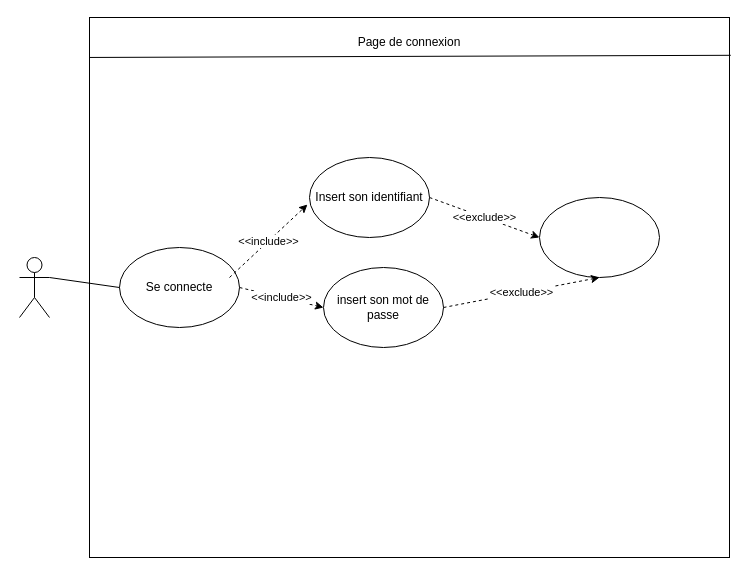
Image size: 750x575. Some labels were removed from this diagram. The shapes that lost their labels are listed below. From the top down, each one's centre as x and y in pixels, then its label:
point 599,237: Accède à l'ensemble du site
point 34,287: Acteur
